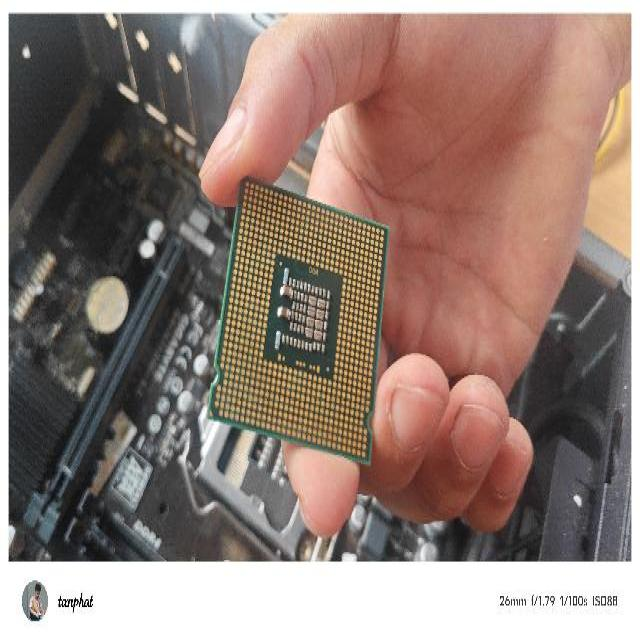CPU: (206, 170, 390, 472)
